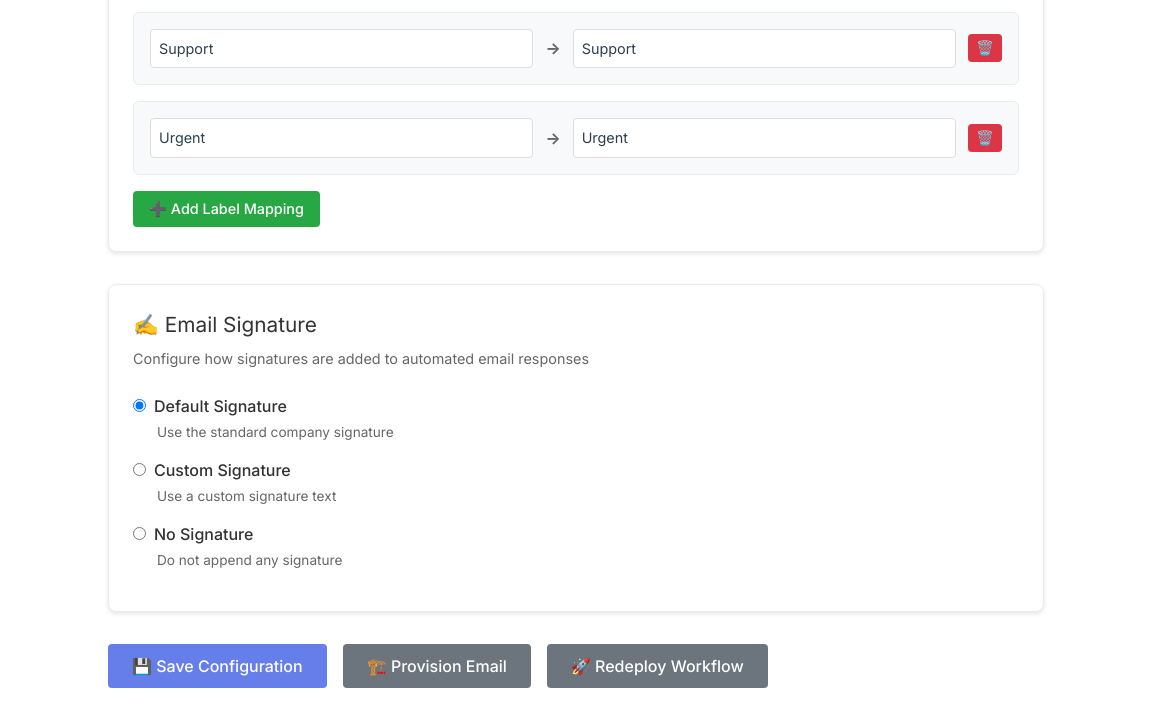
Scenario: EmailAutomationSettings › should show error when API rejects save
(page scrolled)
Click the button "💾 Save Configuration" at (217, 666), box left=108, top=644, right=327, bottom=688
(page scrolled)
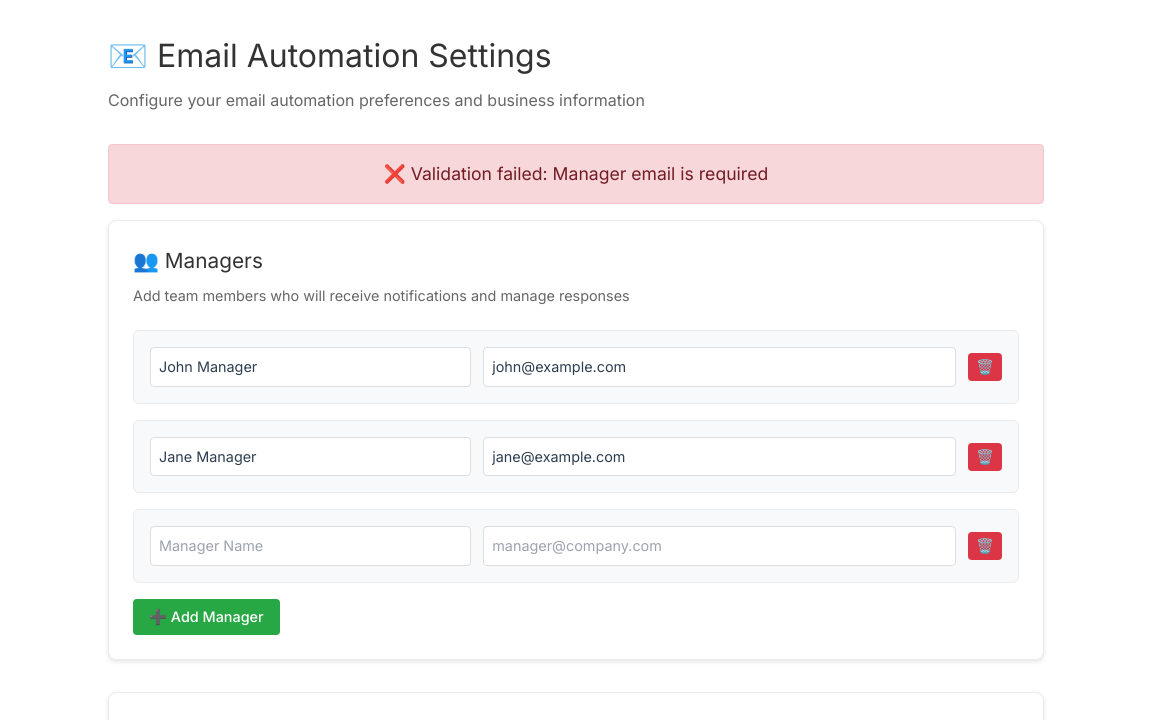
Expected: the text "❌ Validation failed: Manager email is required" is shown, left=108, top=144, right=1044, bottom=204
